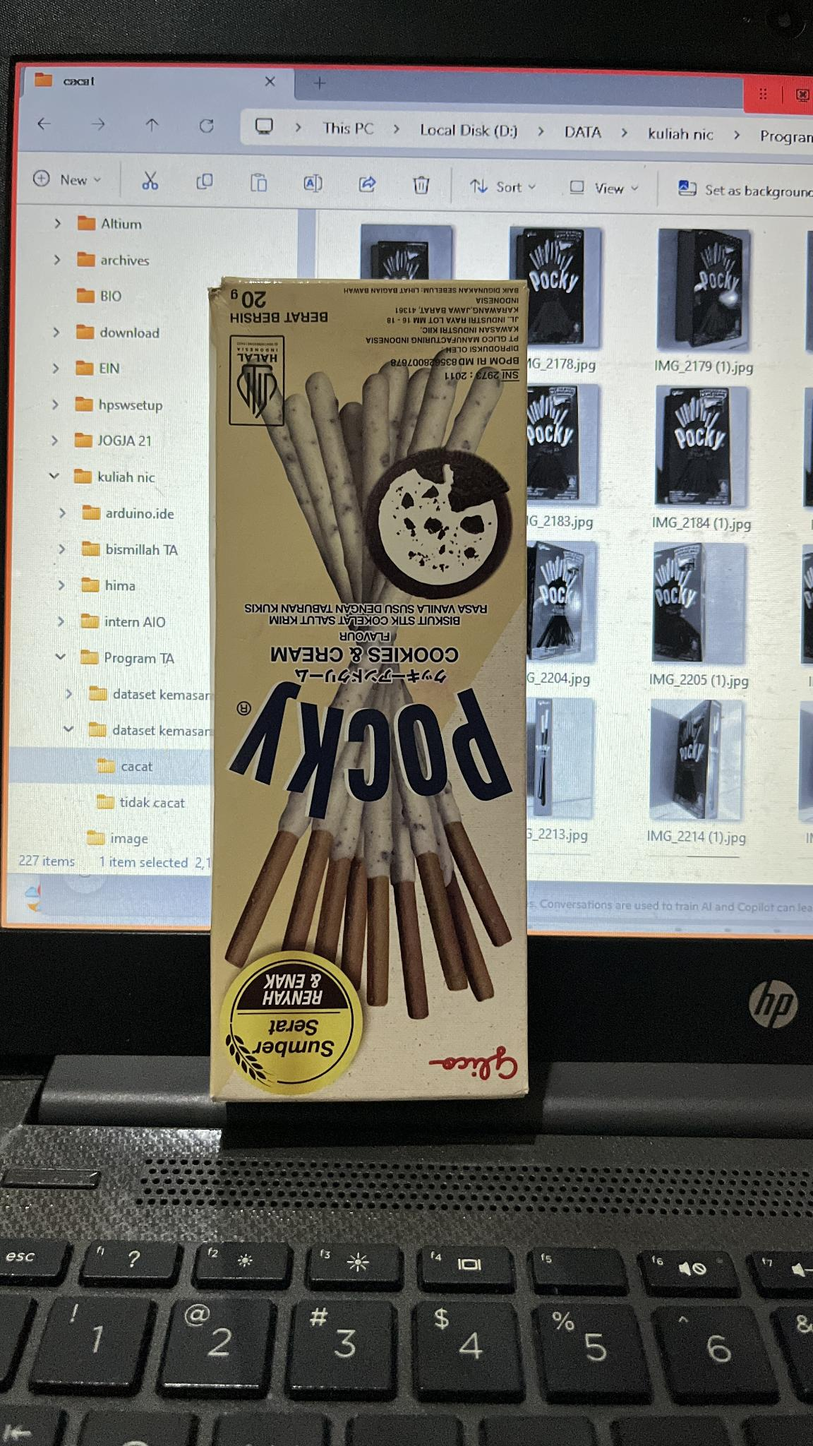Kertas: (208, 269, 534, 1105)
